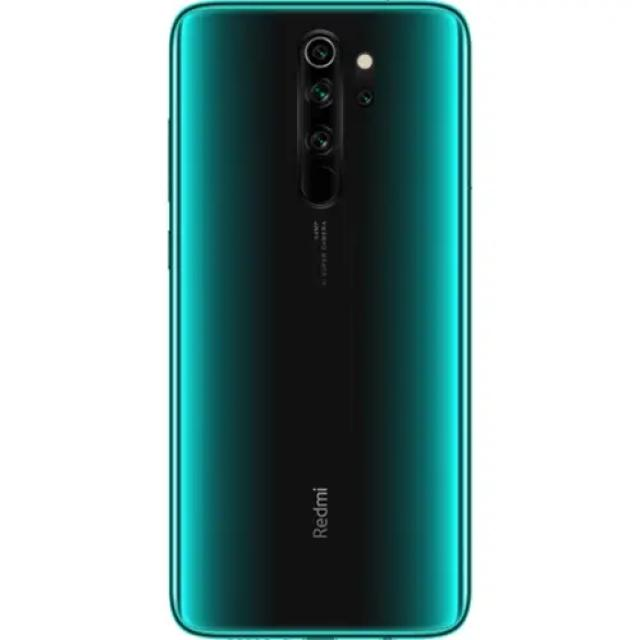Red Mi Note 8 Pro: (166, 0, 476, 640)
